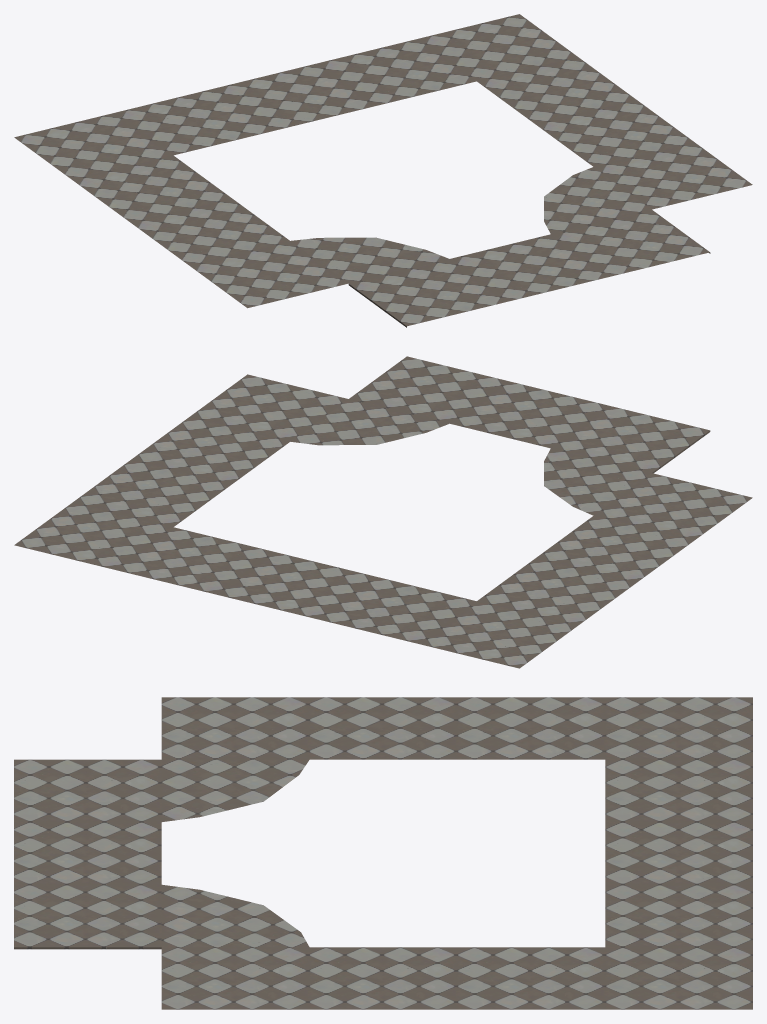
Rendered from Homeworld_Interior_Md_Room_Q_Floor_01_Vo.fbx.
The picture shows the model from 3 angles, top to bottom: view 1: azimuth 30°, elevation 25°; view 2: azimuth 150°, elevation 25°; view 3: azimuth 270°, elevation 25°; orthographic projection. The views are drawn at different scales.
Parts seen in each view (by area): view 1: Homeworld_Interior_Md_Room_Q_Floor_01_Vo; view 2: Homeworld_Interior_Md_Room_Q_Floor_01_Vo; view 3: Homeworld_Interior_Md_Room_Q_Floor_01_Vo.
Part boxes in pixels (bbox=[...]): Homeworld_Interior_Md_Room_Q_Floor_01_Vo: bbox=[14, 14, 752, 327]; Homeworld_Interior_Md_Room_Q_Floor_01_Vo: bbox=[14, 356, 752, 668]; Homeworld_Interior_Md_Room_Q_Floor_01_Vo: bbox=[14, 697, 752, 1009].
Size of the model in its own units: 25.01 by 0.0769 by 25.
